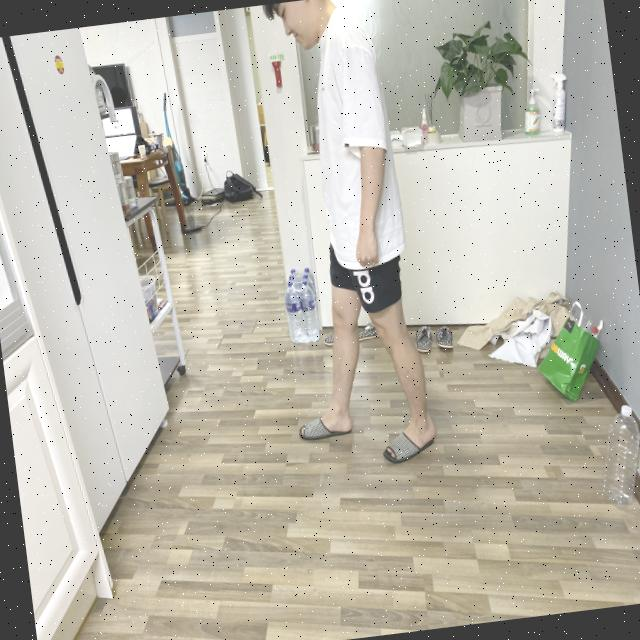no-boots: (379, 407, 448, 477), (294, 396, 358, 454)
